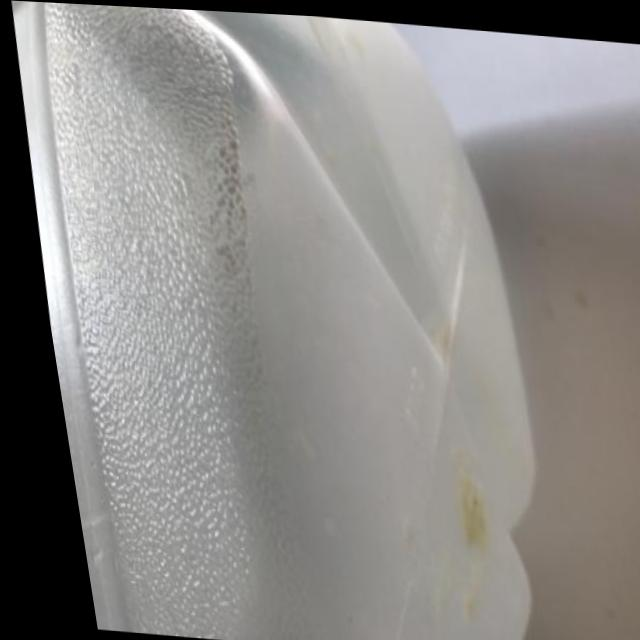plastic: (0, 0, 614, 640)
